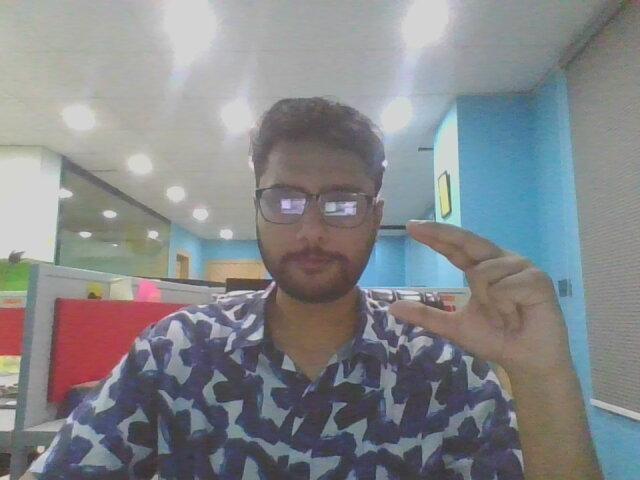no: (385, 206, 589, 378)
